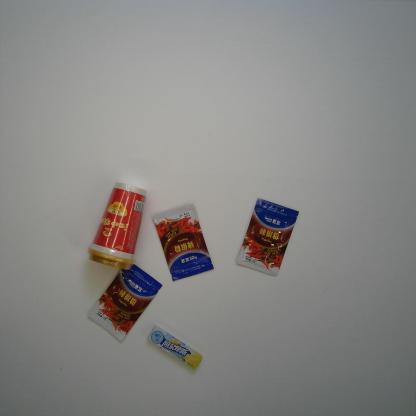Candy: (147, 324, 203, 370)
Instant Drink: (86, 182, 148, 271)
Seasoner: (86, 264, 163, 342), (236, 197, 300, 278), (153, 203, 215, 281)
